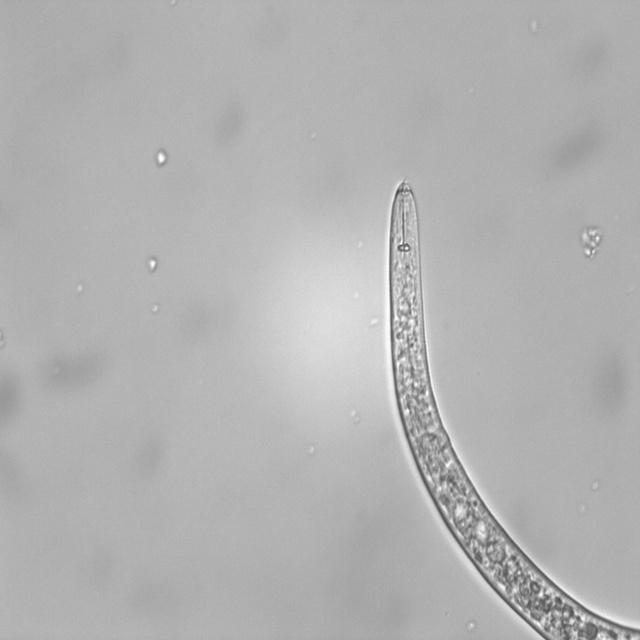Helicotylenchus: (377, 162, 640, 639)
